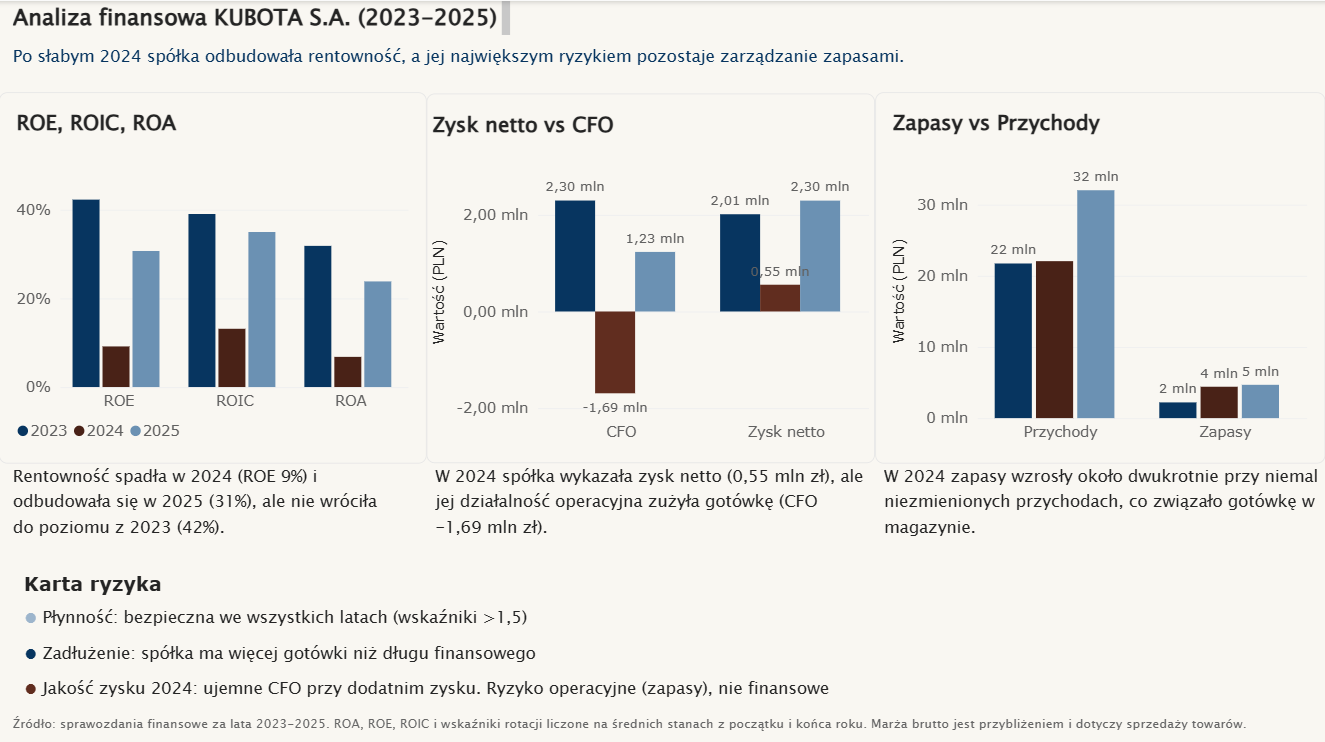

What the dashboard file says about the page in this screenshot:
{"tool":"powerbi","page":{"name":"Wnioski","canvas":[1280,720],"ordinal":1},"visuals":[{"type":"clusteredColumnChart","title":"Zysk netto vs CFO","fields":{"Category":["Zysk netto_CFO.Pozycja"],"Y":["Sum(Zysk netto_CFO.2023)","Sum(Zysk netto_CFO.2024)","Sum(Zysk netto_CFO.2025)"]},"box":[412.6,89.3,433.1,357.1],"z":0},{"type":"clusteredColumnChart","title":"ROE, ROIC, ROA","fields":{"Category":["Wskaźniki.WSKAŹNIKI"],"Y":["Sum(Wskaźniki.2023)","Sum(Wskaźniki.2024)","Sum(Wskaźniki.2025)"]},"box":[0,88.1,412.6,358.3],"z":1},{"type":"textbox","box":[24.7,551.6,258.8,31.6],"z":2},{"type":"textbox","box":[24.7,583.2,624.2,34],"z":3},{"type":"textbox","box":[24.7,617.5,624.2,34],"z":4},{"type":"textbox","box":[24.7,651.8,822,35.7],"z":5},{"type":"clusteredColumnChart","title":"Zapasy vs Przychody","fields":{"Category":["Zapasy_Przychody.Pozycja"],"Y":["Sum(Zapasy_Przychody.2023)","Sum(Zapasy_Przychody.2024)","Sum(Zapasy_Przychody.2025)"]},"box":[845.7,88.1,434.3,358.3],"z":6},{"type":"textbox","box":[13.7,0,480.3,41.2],"z":7},{"type":"textbox","box":[13.7,41.2,959.2,31.6],"z":8},{"type":"textbox","box":[13.3,446.4,369.2,96.5],"z":9},{"type":"textbox","box":[421,446.4,415,96.5],"z":10},{"type":"textbox","box":[854.2,446.4,427.1,96.5],"z":11},{"type":"textbox","box":[13.7,687.5,1211.7,32.9],"z":12}]}

Visuals, with their boxes in screenshot pixels (x1, y1, x2, y2), scaled from the page's 1280x720 canvas onto the 1325x742 screenshot:
"Zysk netto vs CFO" clusteredColumnChart: Rect(427, 92, 875, 460)
"ROE, ROIC, ROA" clusteredColumnChart: Rect(0, 91, 427, 460)
textbox: Rect(26, 568, 293, 601)
textbox: Rect(26, 601, 672, 636)
textbox: Rect(26, 636, 672, 671)
textbox: Rect(26, 672, 876, 709)
"Zapasy vs Przychody" clusteredColumnChart: Rect(875, 91, 1324, 460)
textbox: Rect(14, 0, 511, 42)
textbox: Rect(14, 42, 1007, 75)
textbox: Rect(14, 460, 396, 559)
textbox: Rect(436, 460, 865, 559)
textbox: Rect(884, 460, 1324, 559)
textbox: Rect(14, 709, 1268, 741)
